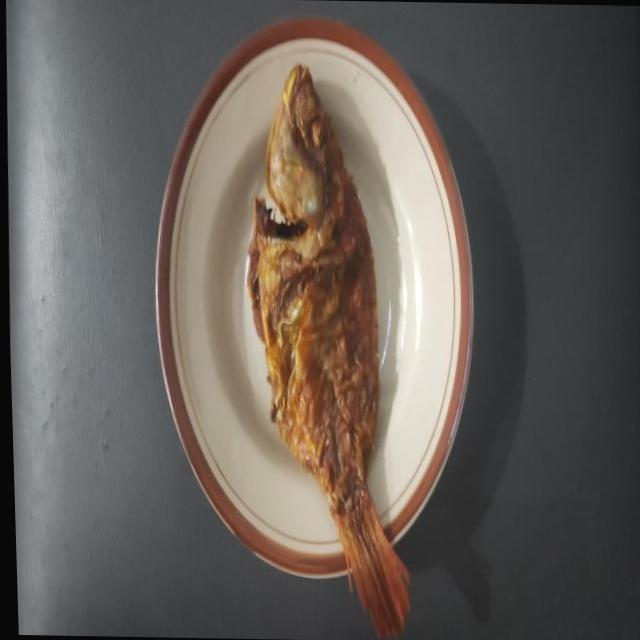ikan_mujair: (247, 64, 408, 637)
